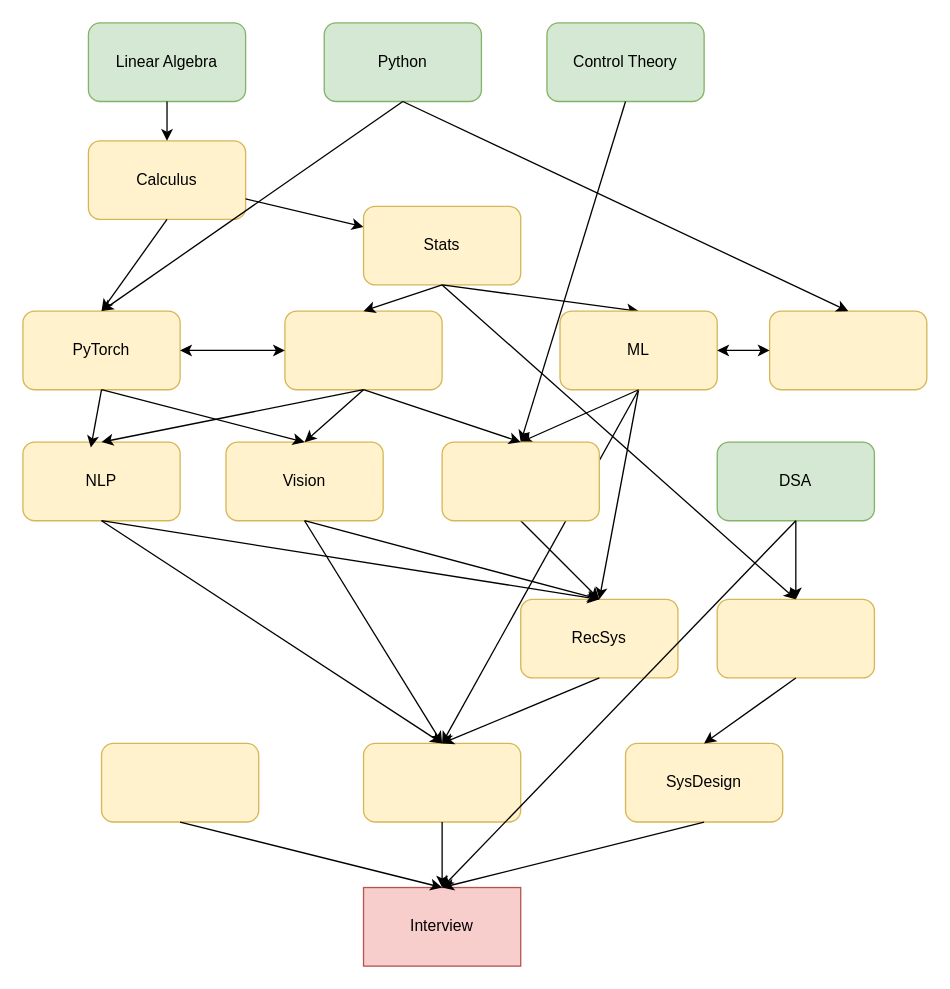
Some shapes in this 950 by 989 pixel diagram are drawn without their labels. The box of each missing label's shape, as (x1, y1, x2, y2) in pixels:
Auction Theory: (100, 742, 259, 822)
DL: (284, 310, 442, 390)
MLDesign: (362, 742, 521, 822)
Probabilistic DSA: (716, 598, 874, 678)
RL: (441, 441, 599, 521)
Sklearn: (768, 310, 927, 390)
